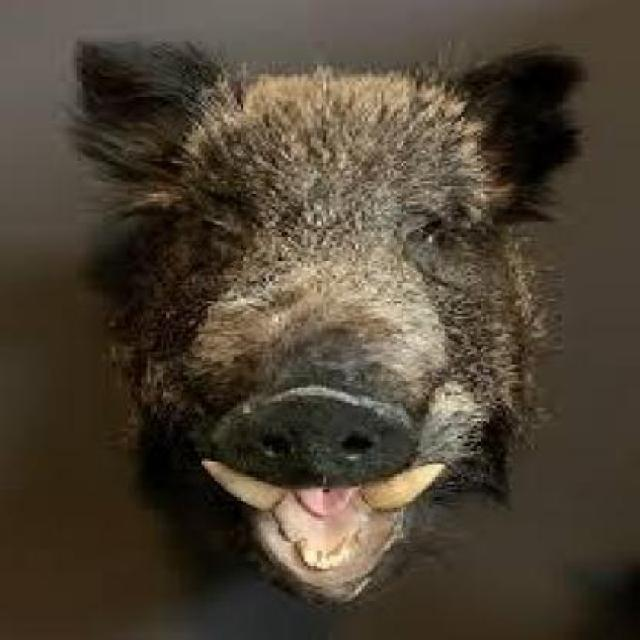wildboar: (63, 32, 594, 640)
